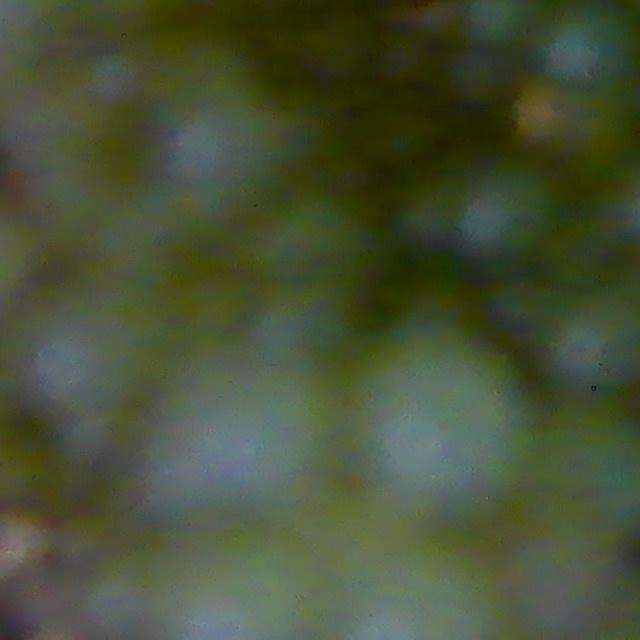SeaGrape: (331, 331, 538, 529), (133, 366, 334, 524), (453, 159, 560, 263), (544, 294, 640, 393), (541, 0, 636, 92), (464, 0, 547, 50)
